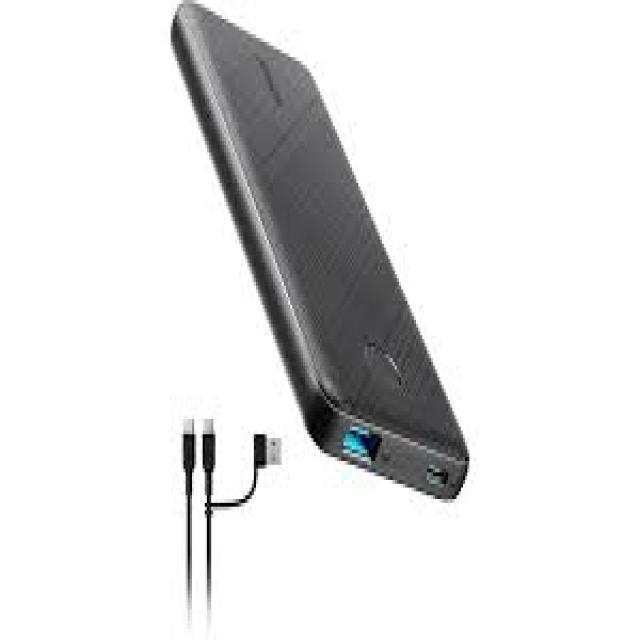power_bank: (167, 0, 473, 508)
